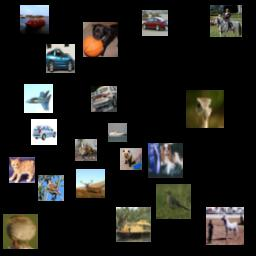airplane: (24, 84, 53, 113)
automobile: (46, 44, 75, 73), (91, 86, 117, 112), (142, 10, 168, 36), (31, 119, 57, 145)
bird: (186, 90, 224, 128), (156, 184, 191, 219), (3, 214, 38, 249), (38, 175, 64, 201)
cat: (9, 157, 35, 183)
deer: (76, 169, 105, 198), (75, 139, 97, 161)
dog: (83, 22, 118, 57), (148, 143, 183, 178), (120, 148, 142, 170)
ship: (116, 207, 151, 242), (20, 5, 49, 34), (108, 123, 127, 142)
